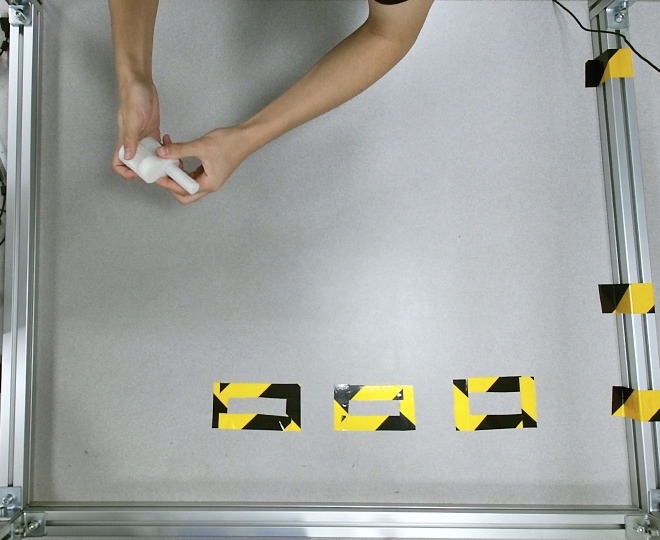stage_4: (118, 135, 197, 194)
